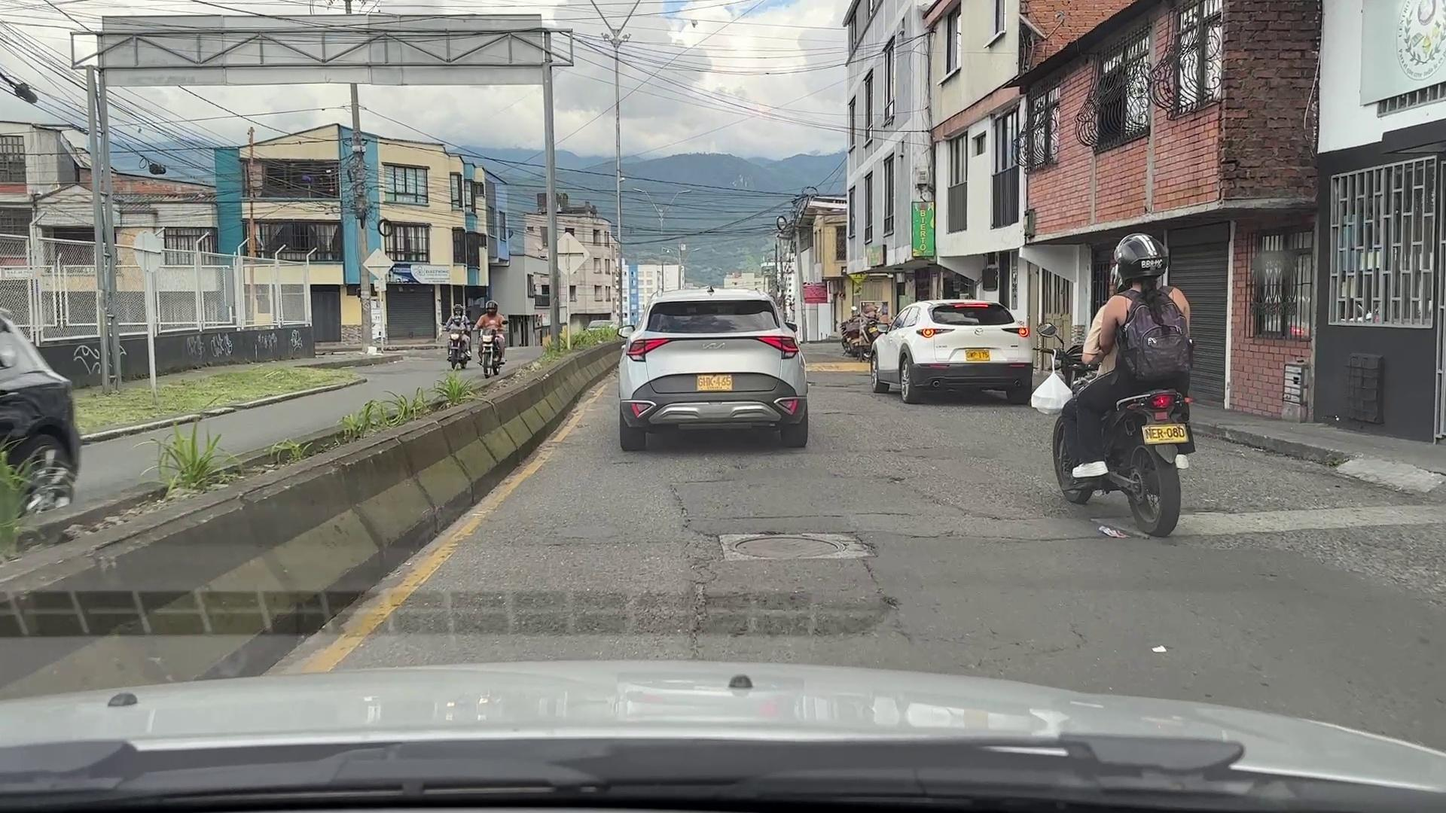bache: (1181, 507, 1231, 514), (888, 478, 905, 484)
grieta: (685, 553, 753, 656), (862, 559, 911, 642), (670, 485, 718, 538)
registro: (736, 535, 846, 558)
